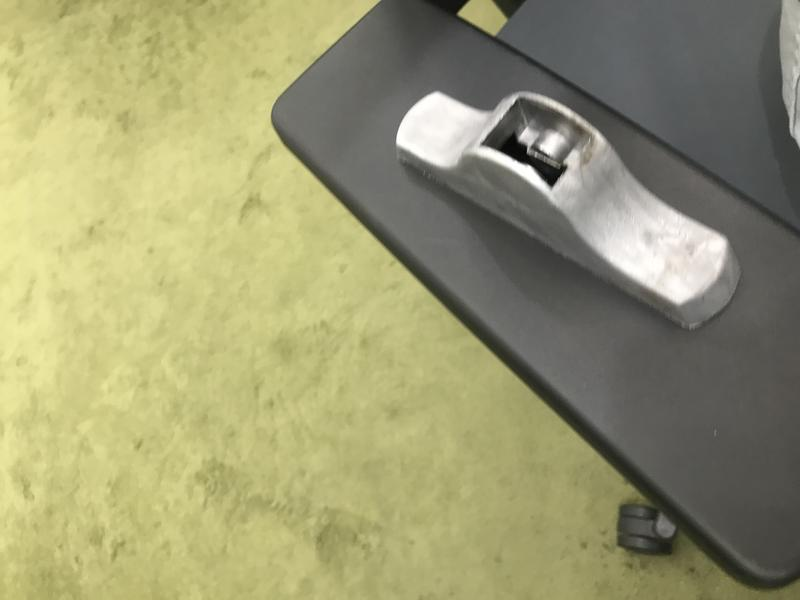zapchast: (388, 78, 754, 347)
